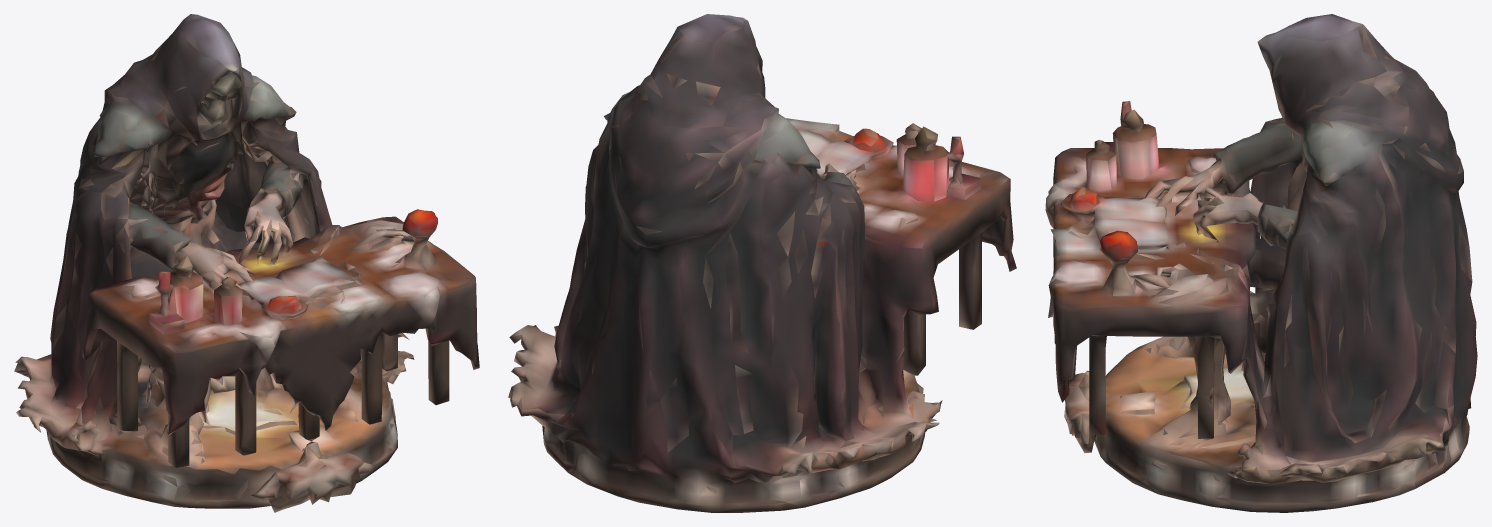
File: Skeletal Mage Alchemist_final.glb
The picture shows the model from 3 angles, left to right: view 1: azimuth 30°, elevation 25°; view 2: azimuth 150°, elevation 25°; view 3: azimuth 270°, elevation 25°; orthographic projection. The views are drawn at different scales.
Parts seen in each view (by area): view 1: Mesh1.0; view 2: Mesh1.0; view 3: Mesh1.0.
Part boxes in pixels (<box>): Mesh1.0: <box>14,14,479,512</box>; Mesh1.0: <box>508,14,1016,512</box>; Mesh1.0: <box>1045,14,1477,512</box>.
Bounding box in the file's own units: 1.95 × 2 × 1.83.
Materials: 1 (1 with a texture image).
